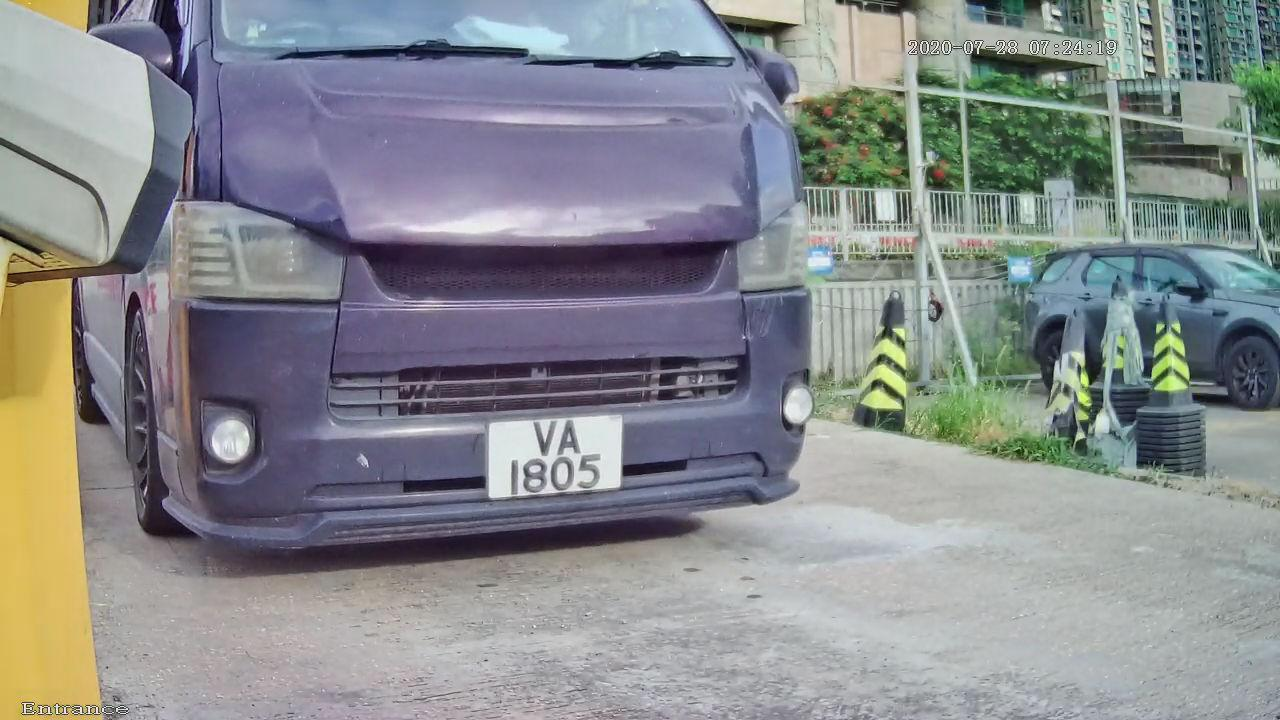privatecar: (46, 7, 932, 582)
